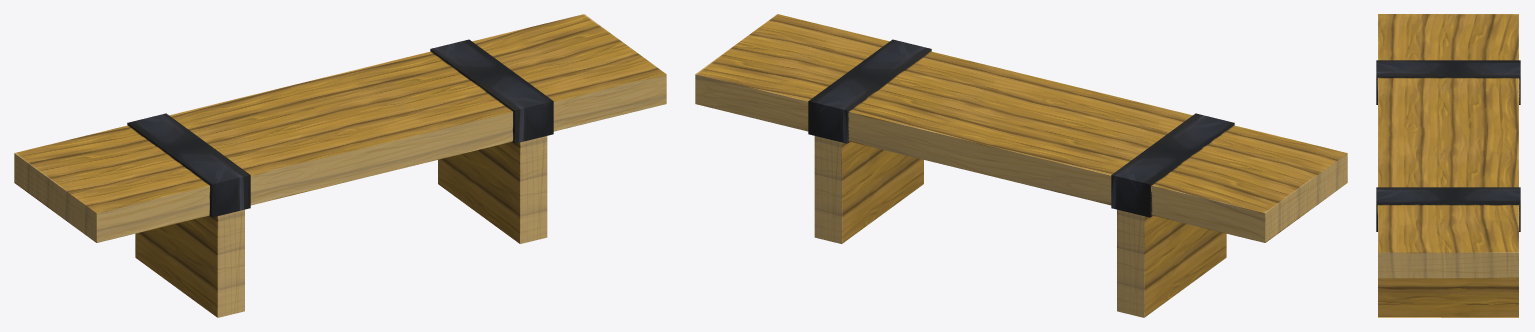
Rendered from Bench.fbx.
3 renders of one model, left to right at view 1: azimuth 30°, elevation 25°; view 2: azimuth 150°, elevation 25°; view 3: azimuth 270°, elevation 25°, orthographic. The views are drawn at different scales.
Visible parts, largest first — view 1: polySurface3, polySurface1; view 2: polySurface3, polySurface1; view 3: polySurface3, polySurface1.
Boxes of the visible parts, x1,y1,x2,y2 form: polySurface3: [14, 14, 666, 317]; polySurface1: [127, 39, 553, 217]; polySurface3: [695, 14, 1347, 317]; polySurface1: [808, 39, 1234, 217]; polySurface3: [1378, 14, 1518, 317]; polySurface1: [1376, 60, 1520, 231].
Bounding box in the file's own units: 200 × 45.56 × 51.21.
Materials: 2 (2 with a texture image).
